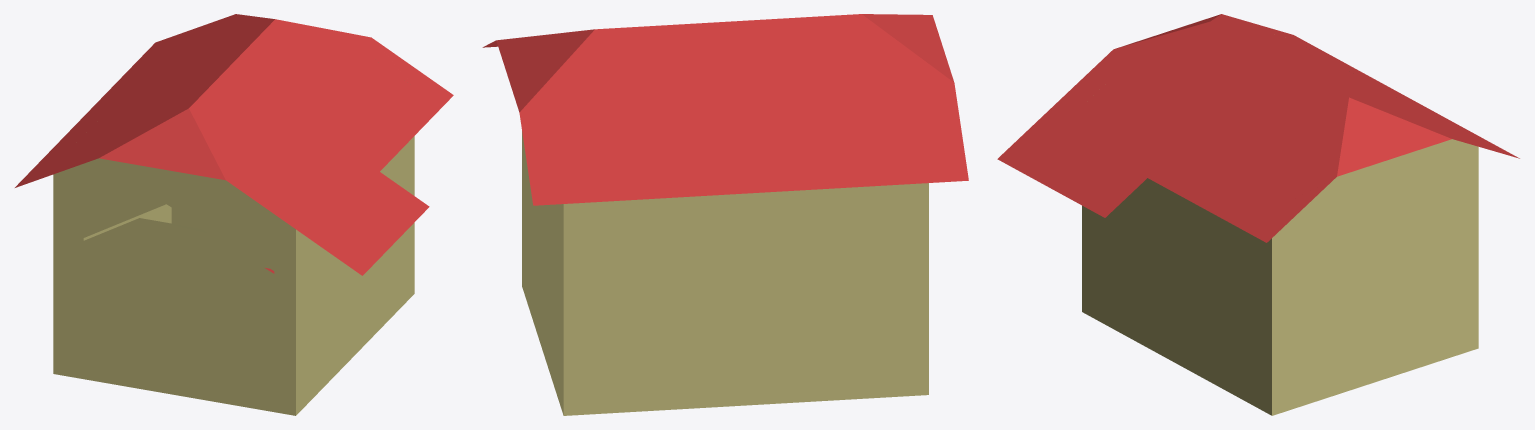
The picture shows the model from 3 angles, left to right: view 1: azimuth 30°, elevation 25°; view 2: azimuth 150°, elevation 25°; view 3: azimuth 270°, elevation 25°; orthographic projection. The views are drawn at different scales.
Size of the model in its own units: 16.35 by 17.46 by 9.92.
